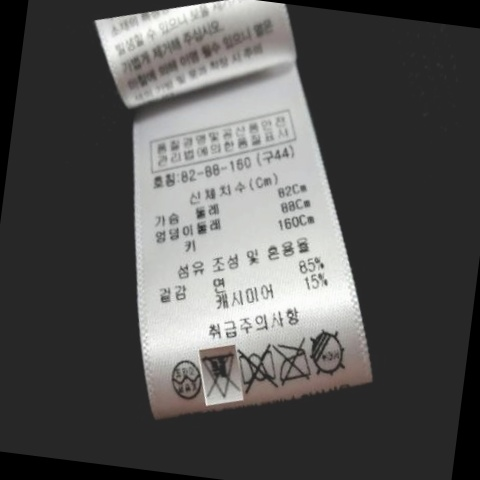DN_iron: (274, 338, 316, 388)
DN_wring: (238, 341, 280, 393)
dry_clean_petrol_only: (166, 349, 205, 404)
dry_flat_in_shade: (303, 322, 351, 382)
non_chlorine_bleach: (200, 346, 240, 400)
